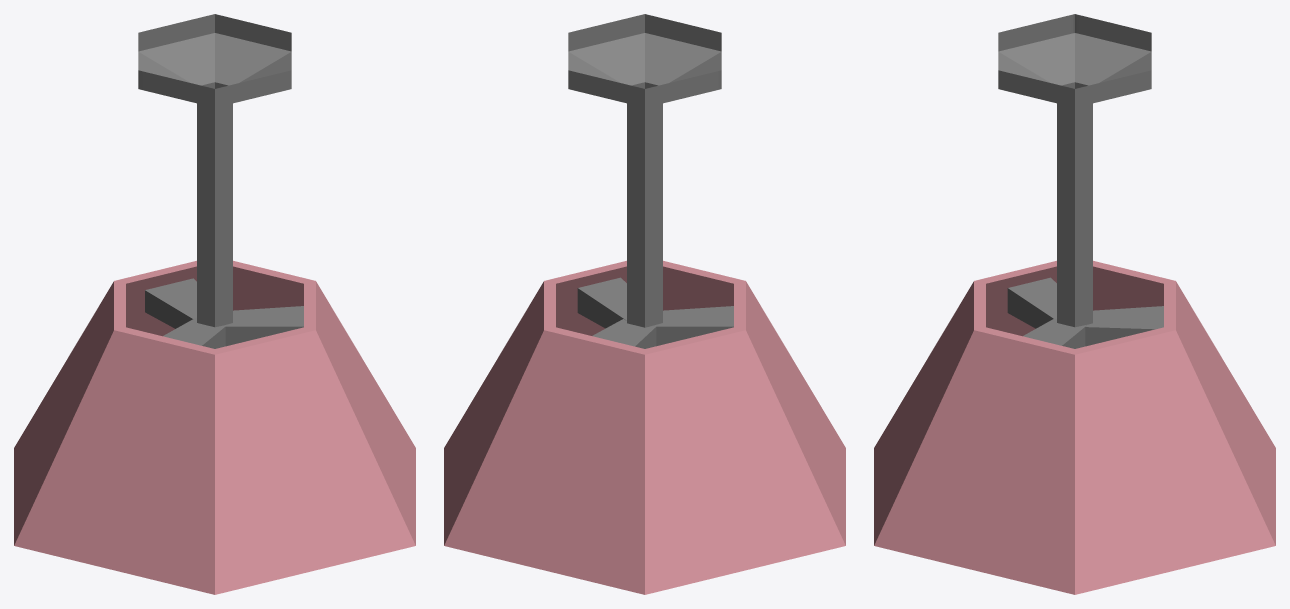
The model's file is kattolamppu_pink.FBX.
3 views of the same model, side by side, from view 1: azimuth 30°, elevation 25°; view 2: azimuth 150°, elevation 25°; view 3: azimuth 270°, elevation 25° (orthographic).
Visible parts, largest first — view 1: kattolamppu_pink; view 2: kattolamppu_pink; view 3: kattolamppu_pink.
Part boxes in pixels (box(x1,y1,x2,y2)): kattolamppu_pink: box(14, 14, 415, 594); kattolamppu_pink: box(444, 14, 845, 594); kattolamppu_pink: box(874, 14, 1275, 594).
Size of the model in its own units: 136 by 144 by 118.
